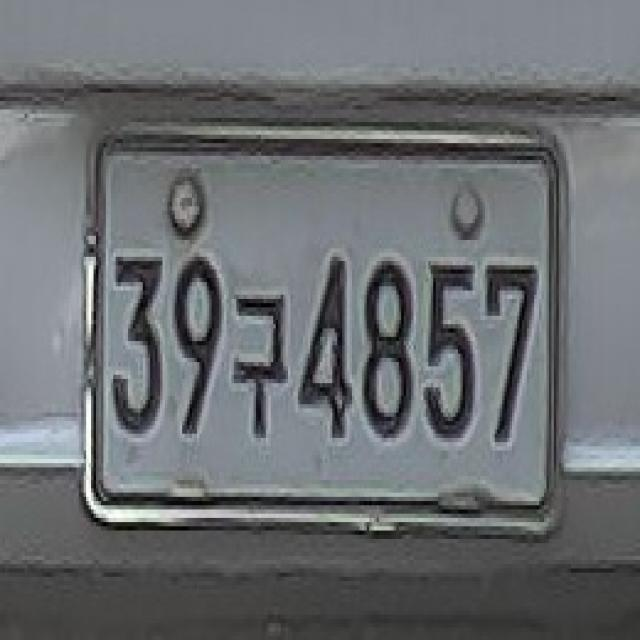3: (111, 248, 167, 438)
4: (296, 253, 354, 442)
5: (421, 253, 477, 442)
7: (480, 261, 537, 446)
8: (359, 253, 414, 442)
9: (170, 253, 221, 442)
gu: (229, 274, 290, 446)
license_plate: (91, 135, 556, 522)
